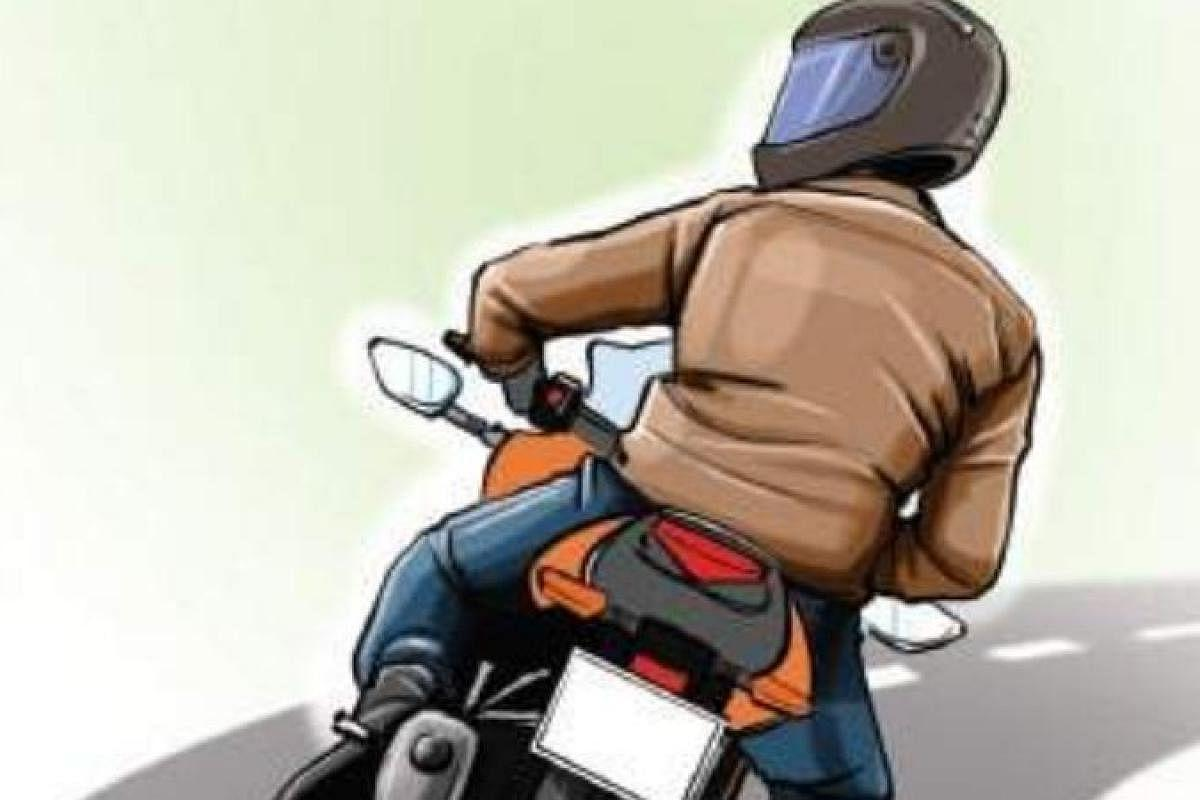Helmet: (745, 0, 1010, 224)
